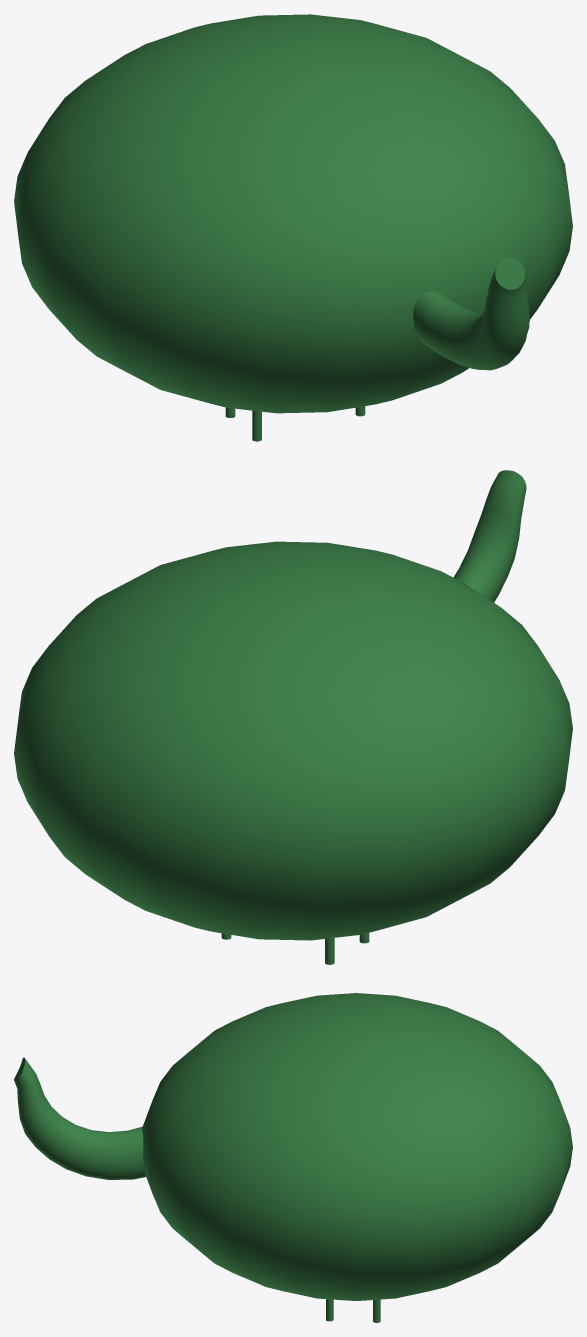
Rendered from watermelonphant.fbx.
3 renders of one model, top to bottom at view 1: azimuth 30°, elevation 25°; view 2: azimuth 150°, elevation 25°; view 3: azimuth 270°, elevation 25°, orthographic. The views are drawn at different scales.
Visible parts, largest first — view 1: pSphere1, pCylinder6; view 2: pSphere1, pCylinder6; view 3: pSphere1, pCylinder6.
Boxes of the visible parts, bbox=[...] form: pSphere1: bbox=[14, 14, 572, 413]; pCylinder6: bbox=[413, 257, 529, 370]; pSphere1: bbox=[14, 541, 572, 940]; pCylinder6: bbox=[453, 470, 526, 602]; pSphere1: bbox=[142, 993, 572, 1300]; pCylinder6: bbox=[14, 1057, 145, 1179].
Bounding box in the file's own units: 6.87 × 4.86 × 8.86.
